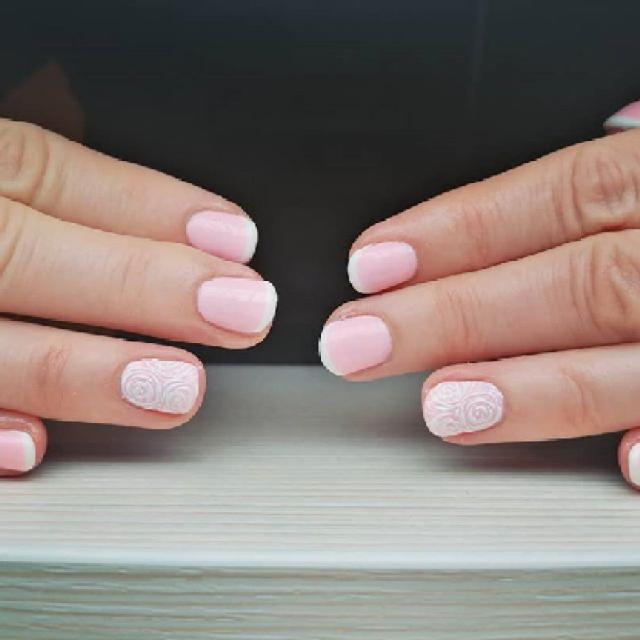Nail: (422, 380, 504, 438), (198, 276, 278, 334), (319, 315, 392, 376), (120, 358, 199, 414), (186, 210, 258, 263), (348, 241, 418, 293), (0, 429, 36, 471)
